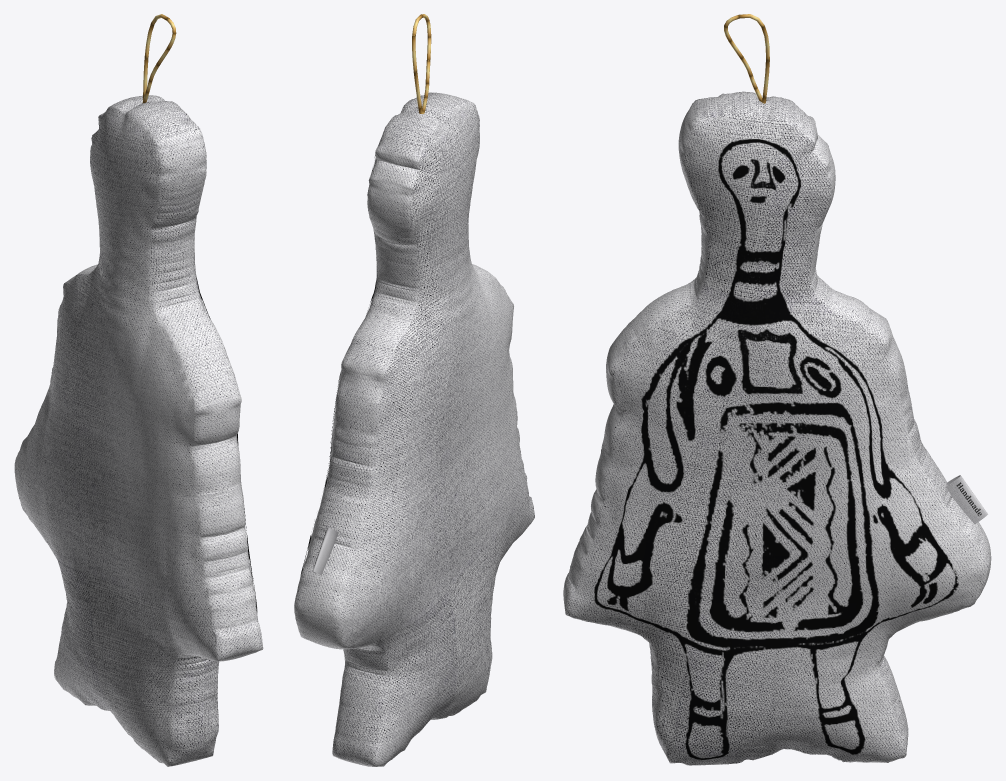
Rendered from 3_white.glb.
The picture shows the model from 3 angles, left to right: view 1: azimuth 30°, elevation 25°; view 2: azimuth 150°, elevation 25°; view 3: azimuth 270°, elevation 25°; orthographic projection. The views are drawn at different scales.
Visible parts, largest first — view 1: Plane.004; view 2: Plane.004; view 3: Plane.004.
Part boxes in pixels (left/top/right/bottom): Plane.004: left=14, top=14, right=263, bottom=766; Plane.004: left=294, top=14, right=534, bottom=766; Plane.004: left=563, top=14, right=991, bottom=765.
Size of the model in its own units: 0.7963 by 5.73 by 2.97.
4 materials, 3 textured.
